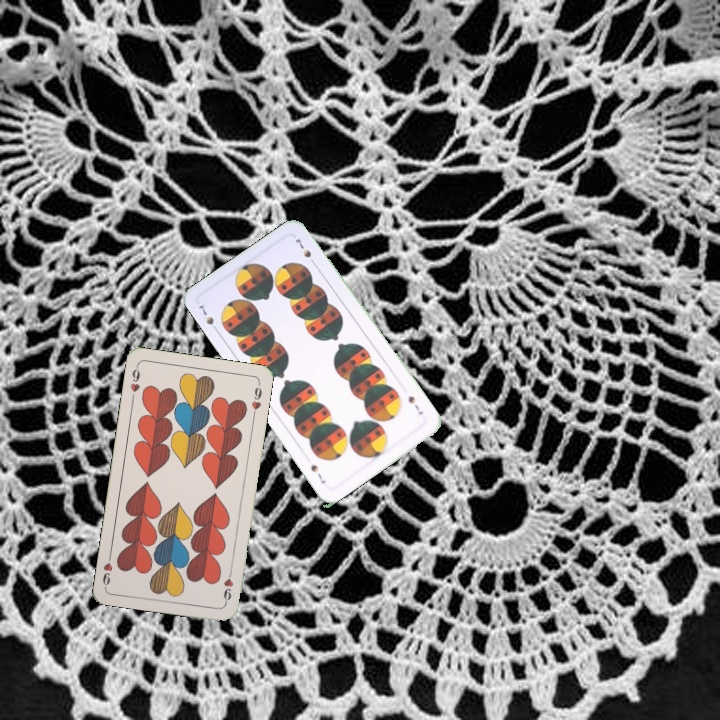H9: (126, 362, 142, 402), (220, 566, 236, 606)
S7: (195, 301, 221, 335), (404, 392, 426, 417)
